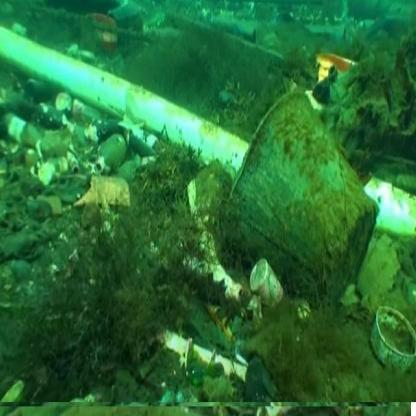misc: (238, 86, 366, 324)
